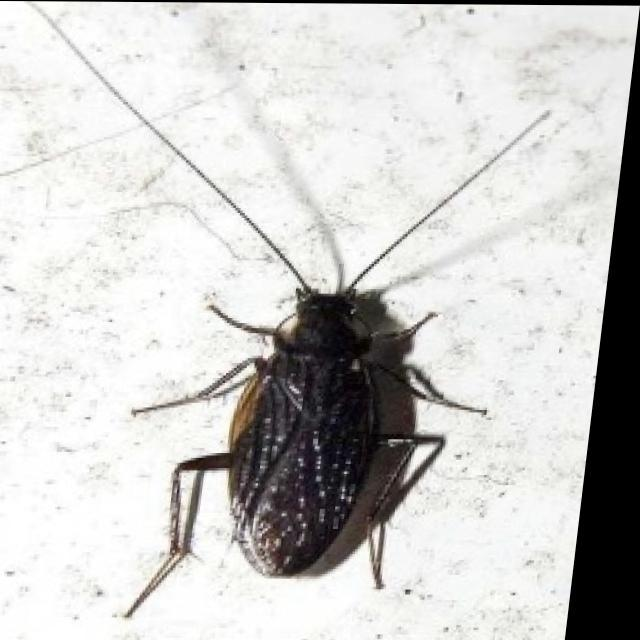cockroach: (134, 201, 493, 626)
